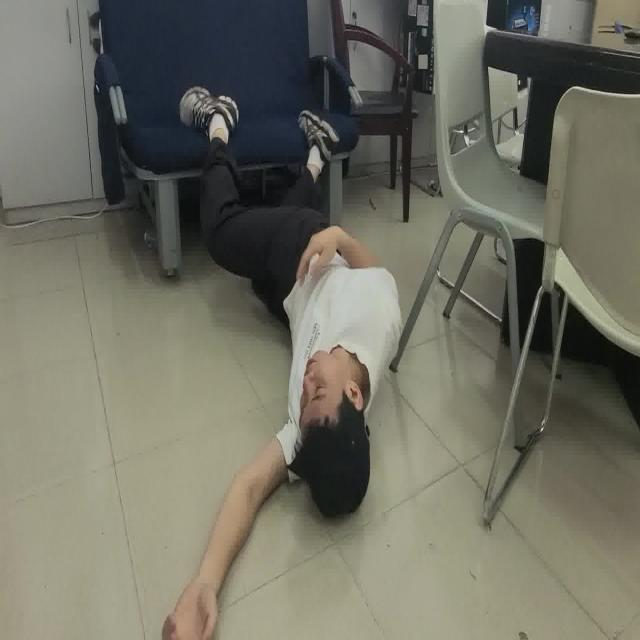Fall-Detected: (157, 82, 403, 640)
